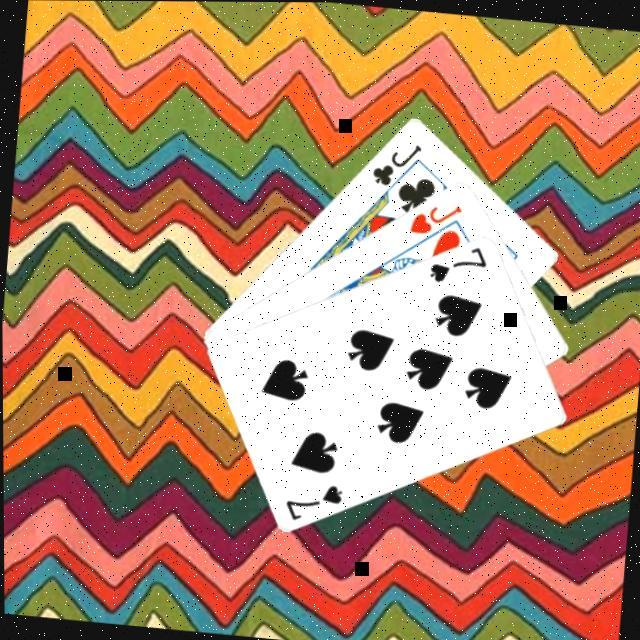7S: (426, 236, 492, 288), (281, 475, 347, 526)
JC: (368, 134, 426, 190)
JH: (406, 196, 465, 238)
